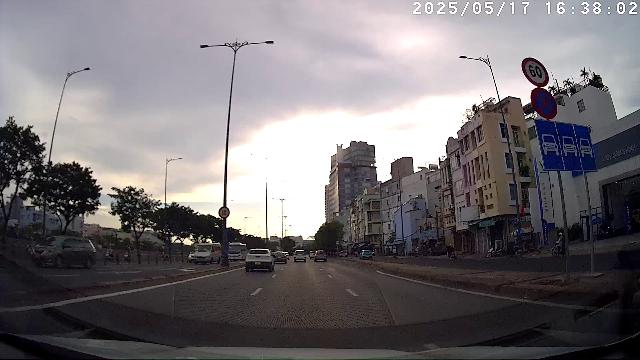127-toc-do-toi-da-60: (521, 57, 549, 87), (218, 206, 230, 218)
